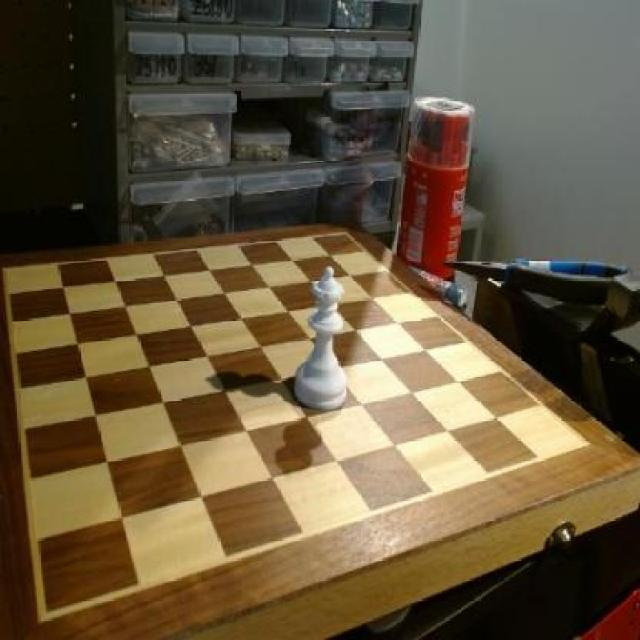white-pawn: (298, 268, 350, 412)
